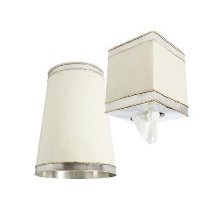tissue: (126, 106, 166, 151)
